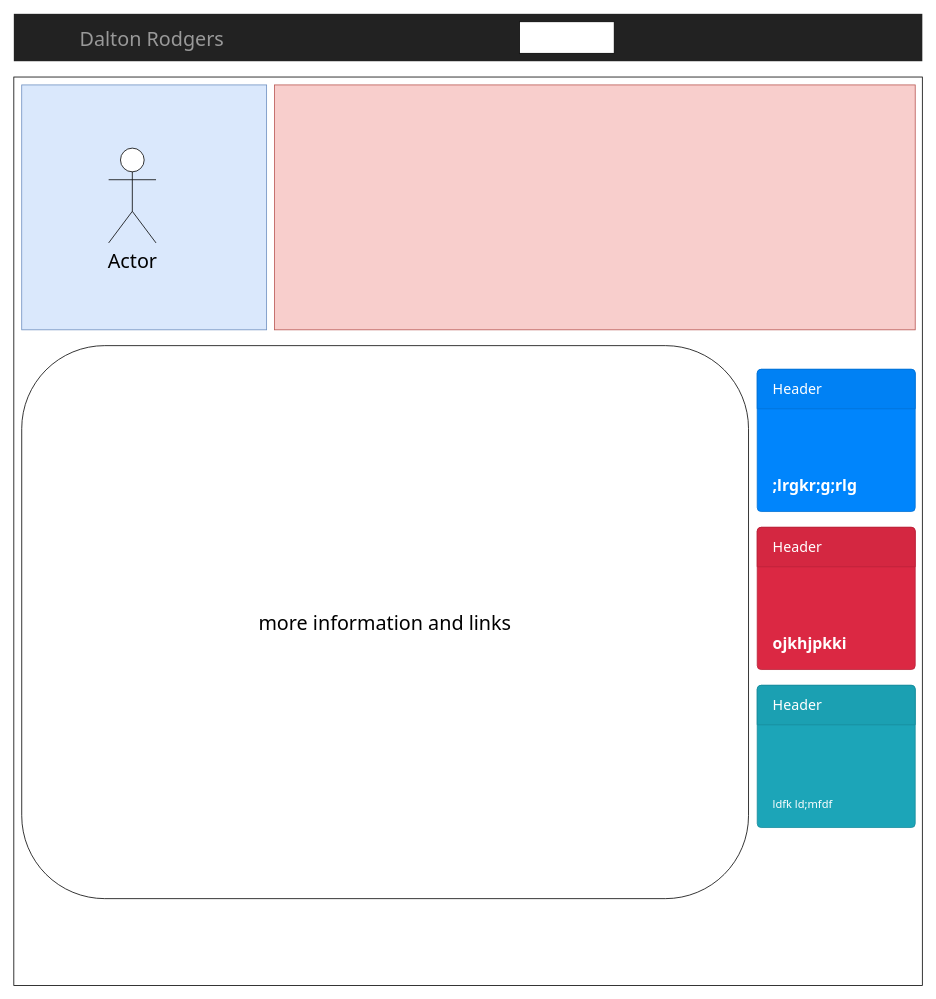
Image size: 936x999. Some labels were removed from this diagram. The shapes that lost their labels are listed below. From the top down, each one's centre as x and y in pixels, then its label:
At (x=566, y=37): "Search".
At (x=594, y=207): "information and skills using bs icons".
